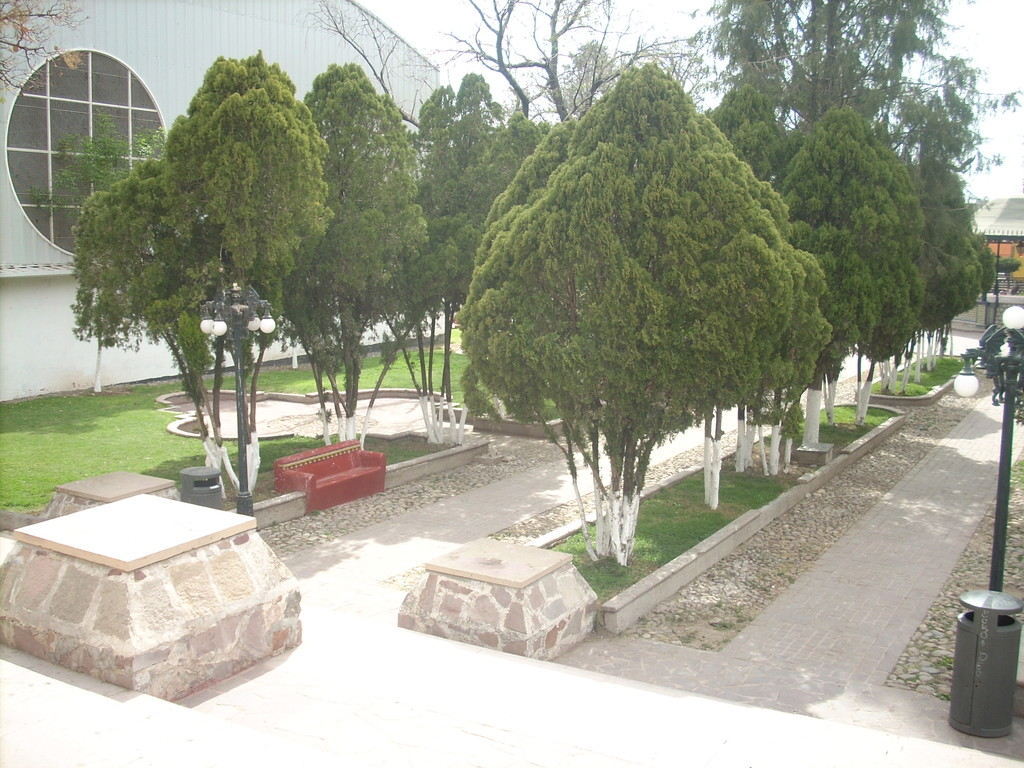Tree: (448, 61, 808, 568), (74, 46, 336, 494), (291, 49, 448, 467), (695, 81, 848, 509), (663, 0, 1023, 168), (401, 60, 544, 431), (800, 108, 941, 452), (412, 0, 712, 120), (910, 124, 1003, 373), (0, 0, 103, 111)
